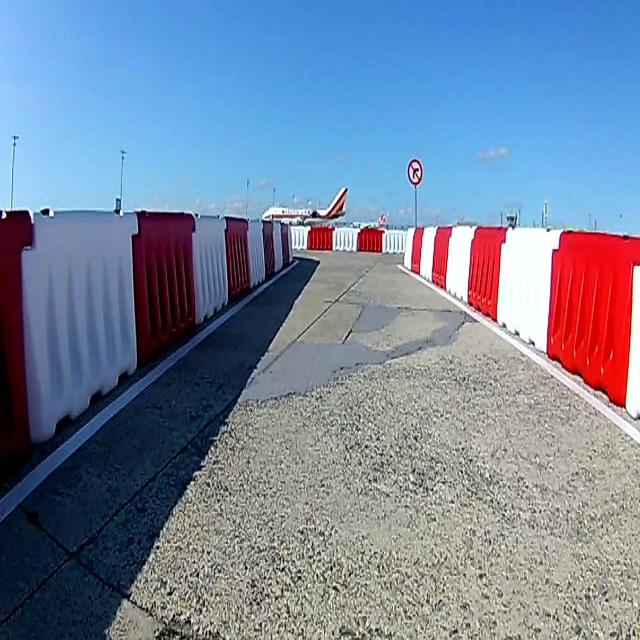sagadonulmez: (407, 159, 423, 184)
